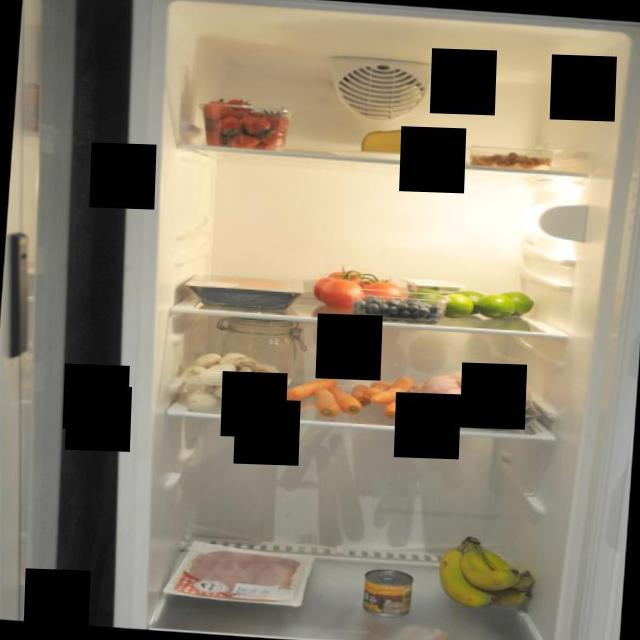Carne cerdo: (186, 544, 306, 610)
Carne pollo: (417, 365, 546, 432)
Carne vacuno: (186, 270, 311, 312)
Champiñones: (176, 348, 292, 419)
Gambas/Langostinos: (469, 150, 552, 171)
Plátano: (428, 532, 541, 618)
Queso: (358, 122, 426, 159)
Tomate: (309, 260, 408, 314)
Zanahoria: (276, 368, 422, 422)
